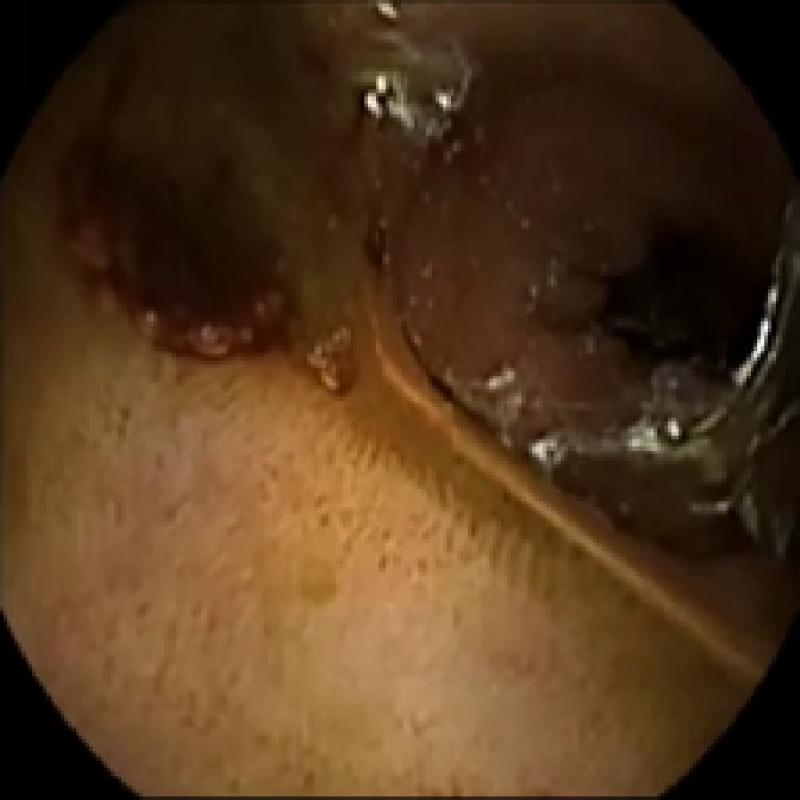bleeding: (57, 57, 293, 375), (596, 222, 772, 388)
